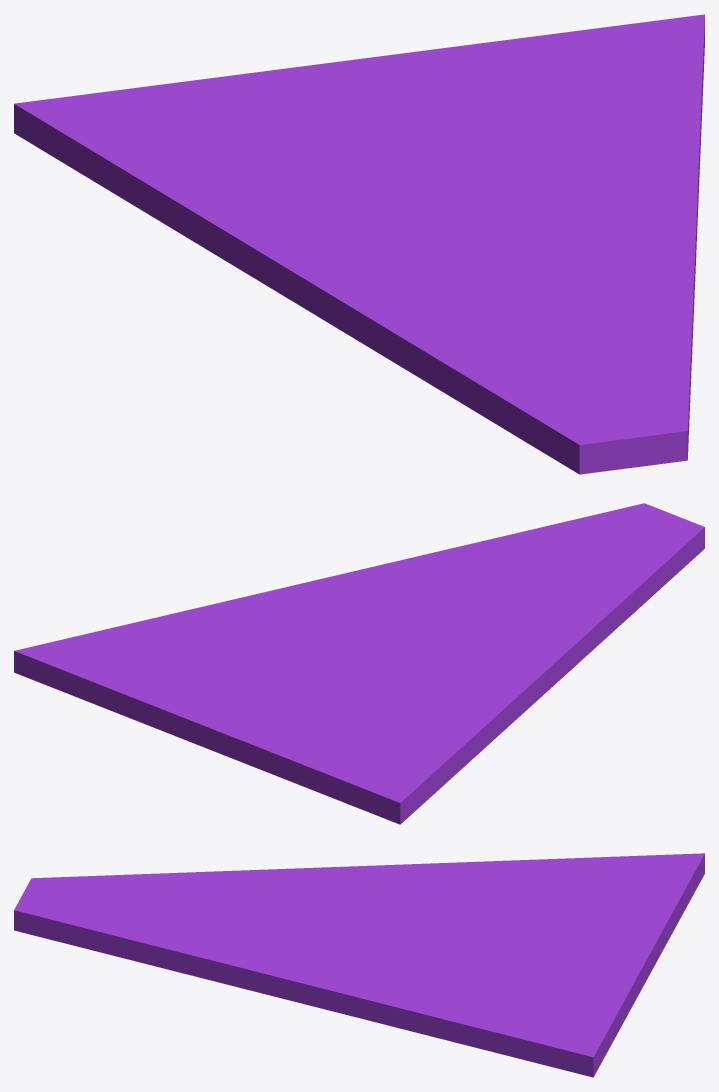
File: StairsStep_7.fbx
3 renders of one model, top to bottom at view 1: azimuth 30°, elevation 25°; view 2: azimuth 150°, elevation 25°; view 3: azimuth 270°, elevation 25°, orthographic. The views are drawn at different scales.
Visible parts, largest first — view 1: StairsStep_7; view 2: StairsStep_7; view 3: StairsStep_7.
Boxes of the visible parts, x1=… form: StairsStep_7: x1=14, y1=14, x2=704, y2=474; StairsStep_7: x1=14, y1=503, x2=704, y2=824; StairsStep_7: x1=14, y1=853, x2=704, y2=1077.
Size of the model in its own units: 387 by 17.94 by 553.
